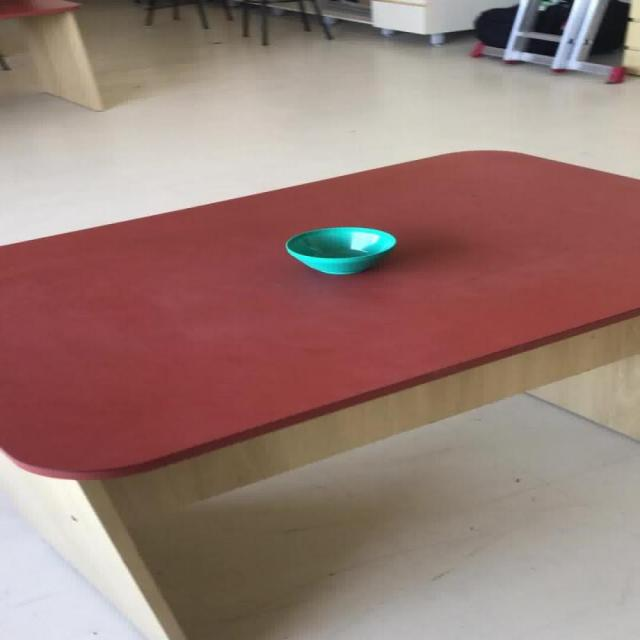Bowl: (283, 226, 396, 274)
